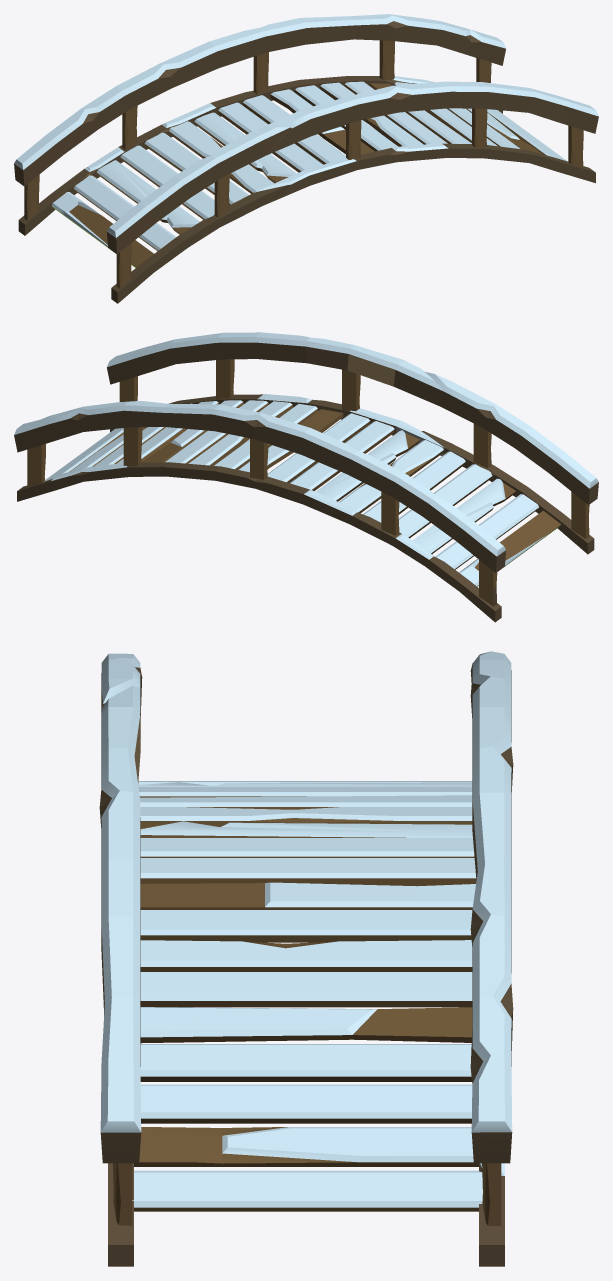
File: model_polytope_snow_wood_bridge.fbx
The picture shows the model from 3 angles, top to bottom: view 1: azimuth 30°, elevation 25°; view 2: azimuth 150°, elevation 25°; view 3: azimuth 270°, elevation 25°; orthographic projection. The views are drawn at different scales.
Visible parts, largest first — view 1: model_polytope_snow_wood_bridge; view 2: model_polytope_snow_wood_bridge; view 3: model_polytope_snow_wood_bridge.
Boxes of the visible parts, bbox=[...] form: model_polytope_snow_wood_bridge: bbox=[14, 14, 598, 303]; model_polytope_snow_wood_bridge: bbox=[14, 332, 598, 622]; model_polytope_snow_wood_bridge: bbox=[99, 651, 513, 1266].
Size of the model in its own units: 876 by 256 by 325.
Materials: 1 (1 with a texture image).
